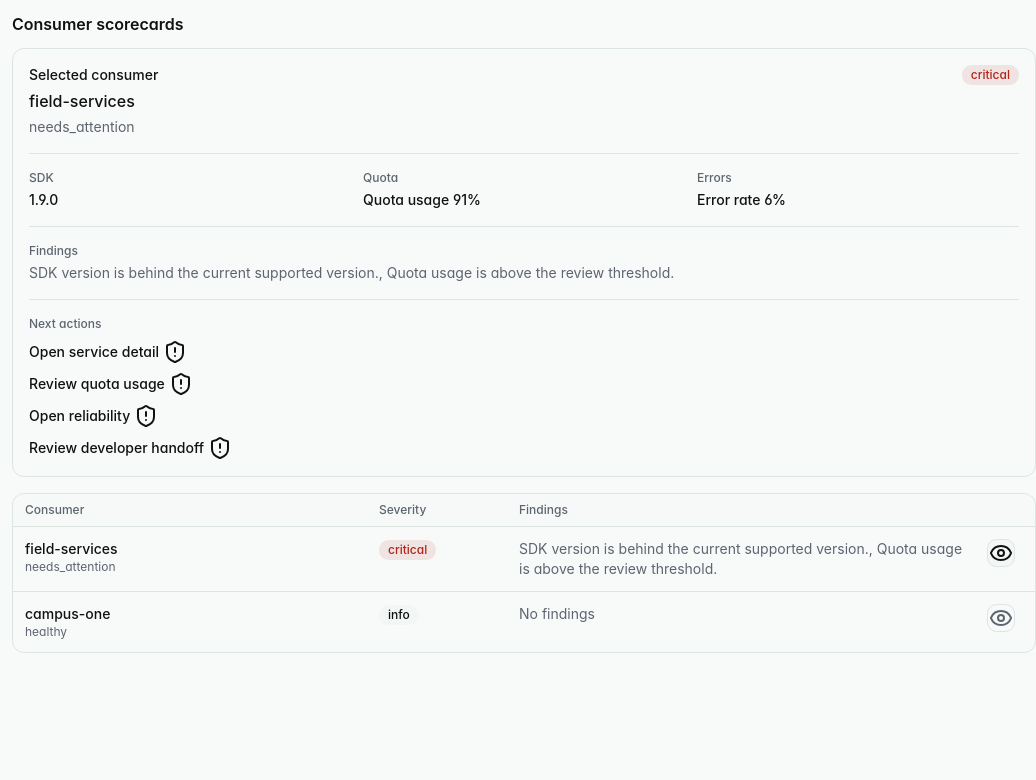
Test case: ConsumerScorecardPanel › prioritizes consumer compliance findings with one selected detail
Expected: the element named "Selected consumer scorecard detail" shows "field-services", top-left (29, 91), bottom-right (135, 111)
Expected: the element named "Selected consumer scorecard detail" shows "critical", top-left (971, 67), bottom-right (1010, 82)
Click the button named "Inspect consumer compliance campus-one".
click(1001, 618)  # box top-left (987, 604), bottom-right (1015, 632)
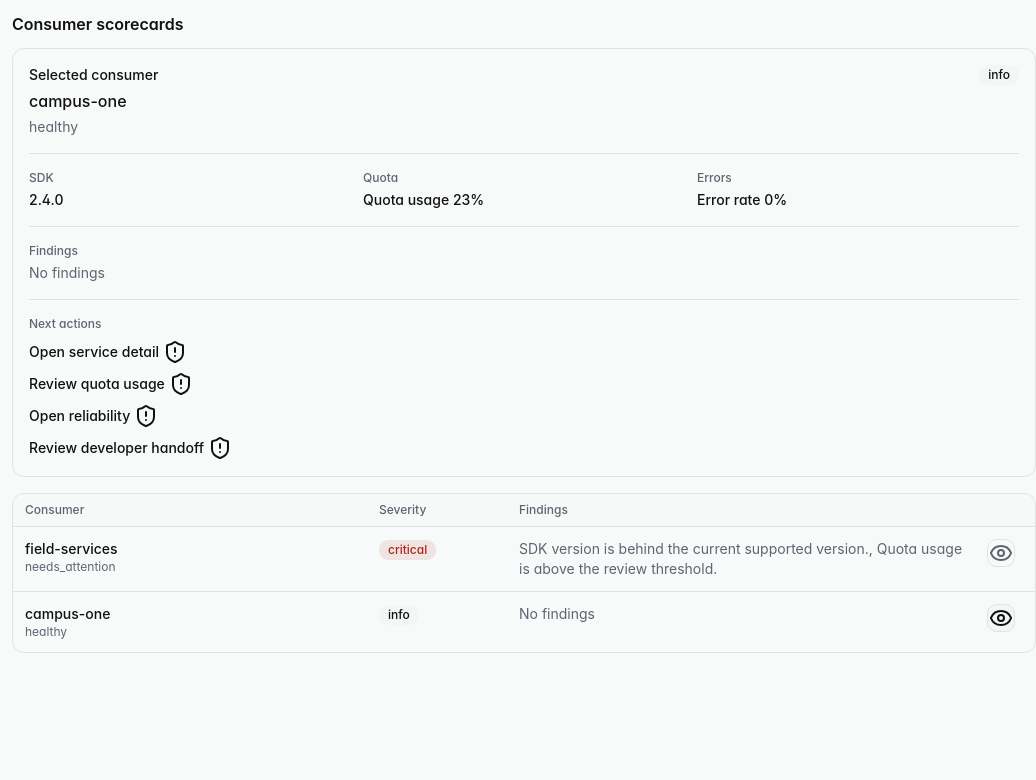
Expected: the element named "Selected consumer scorecard detail" shows "campus-one", top-left (29, 91), bottom-right (127, 111)
Expected: the element named "Selected consumer scorecard detail" shows "No findings", top-left (29, 264), bottom-right (105, 281)
